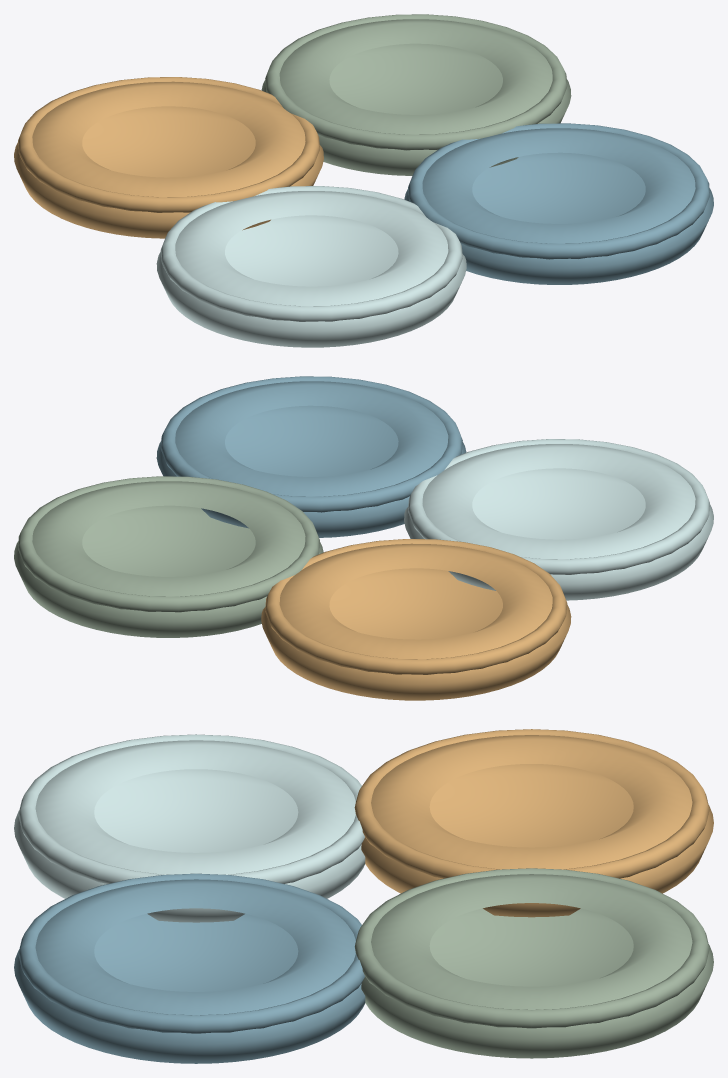
Rendered from pratos-alegria-conjunto-de-4.glb.
3 views of the same model, one above another, from view 1: azimuth 30°, elevation 25°; view 2: azimuth 150°, elevation 25°; view 3: azimuth 270°, elevation 25° (orthographic). The views are drawn at different scales.
Parts seen in each view (by area): view 1: Prato colorido raso, Prato colorido raso.001, Prato colorido raso.002, Prato colorido raso.003, Bordo canelado do prato, Bordo canelado do prato.001, Bordo canelado do prato.002, Bordo canelado do prato.003; view 2: Prato colorido raso.002, Prato colorido raso.003, Prato colorido raso, Prato colorido raso.001, Bordo canelado do prato.002, Bordo canelado do prato.003, Bordo canelado do prato, Bordo canelado do prato.001; view 3: Prato colorido raso.003, Prato colorido raso.001, Prato colorido raso.002, Prato colorido raso, Bordo canelado do prato.003, Bordo canelado do prato.001, Bordo canelado do prato.002, Bordo canelado do prato.
Boxes of the visible parts, x1,y1,x2,y2 form: Prato colorido raso: (156,191,466,347); Prato colorido raso.001: (404,128,713,284); Prato colorido raso.002: (14,81,323,238); Prato colorido raso.003: (261,19,571,175); Bordo canelado do prato: (160,186,462,321); Bordo canelado do prato.001: (408,123,709,259); Bordo canelado do prato.002: (18,77,319,212); Bordo canelado do prato.003: (265,14,567,150); Prato colorido raso.002: (261,543,571,700); Prato colorido raso.003: (14,481,323,637); Prato colorido raso: (404,444,713,600); Prato colorido raso.001: (156,381,466,537); Bordo canelado do prato.002: (265,539,567,674); Bordo canelado do prato.003: (18,476,319,612); Bordo canelado do prato: (408,439,709,574); Bordo canelado do prato.001: (160,376,462,512); Prato colorido raso.003: (361,874,713,1058); Prato colorido raso.001: (14,879,365,1063); Prato colorido raso.002: (361,735,713,917); Prato colorido raso: (14,740,365,922); Bordo canelado do prato.003: (354,868,709,1028); Bordo canelado do prato.001: (18,873,364,1033); Bordo canelado do prato.002: (354,729,709,878); Bordo canelado do prato: (18,734,364,883).
Bounding box in the file's own units: 0.2378 × 0.023 × 0.2378.
